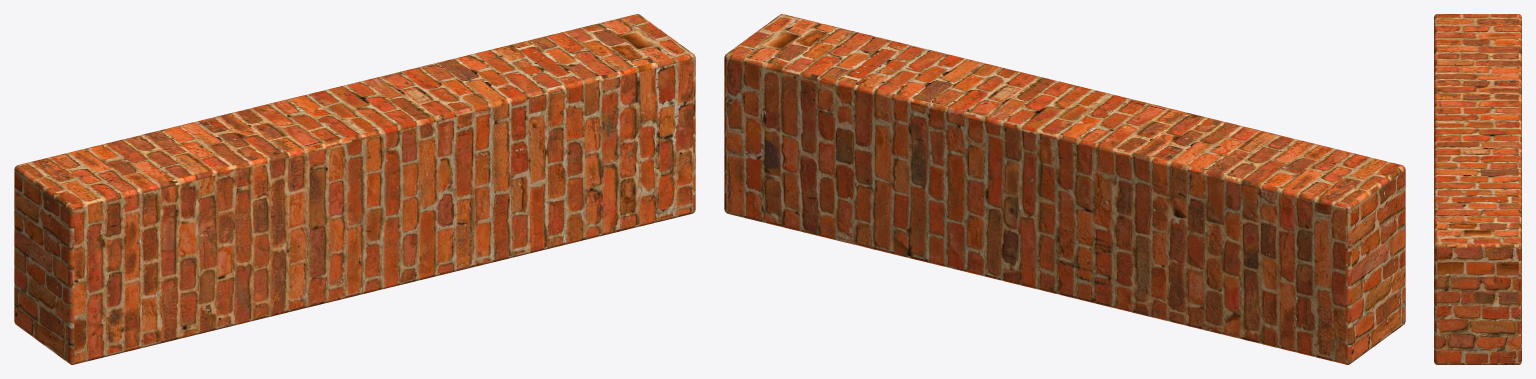
3 views of the same model, side by side, from view 1: azimuth 30°, elevation 25°; view 2: azimuth 150°, elevation 25°; view 3: azimuth 270°, elevation 25° (orthographic). The views are drawn at different scales.
Visible parts, largest first — view 1: Chamfer_Box__97333_ChamferBox_0; view 2: Chamfer_Box__97333_ChamferBox_0; view 3: Chamfer_Box__97333_ChamferBox_0.
Part boxes in pixels (<box>): Chamfer_Box__97333_ChamferBox_0: <box>14,14,695,364</box>; Chamfer_Box__97333_ChamferBox_0: <box>724,14,1405,364</box>; Chamfer_Box__97333_ChamferBox_0: <box>1434,14,1521,364</box>.
Bounding box in the file's own units: 25 × 6.1 × 4.
